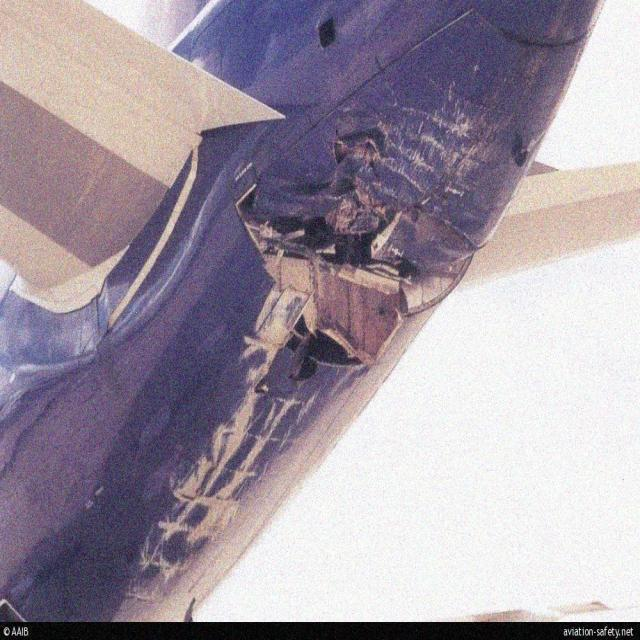crack: (232, 129, 422, 385)
